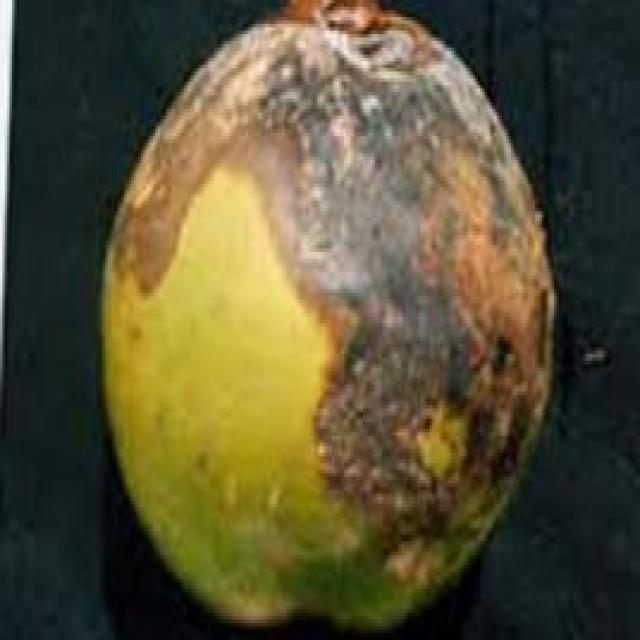damaged: (93, 0, 559, 637)
